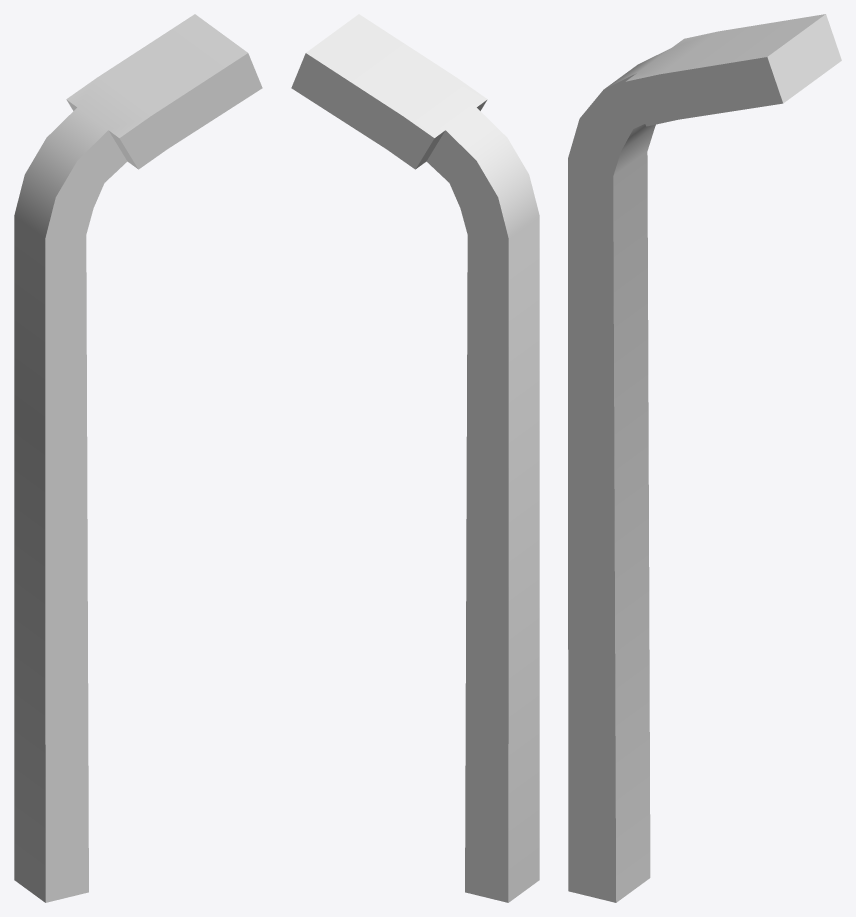
The model's file is lantern01_s03.FBX.
3 views of the same model, side by side, from view 1: azimuth 30°, elevation 25°; view 2: azimuth 150°, elevation 25°; view 3: azimuth 330°, elevation 25° (orthographic). The views are drawn at different scales.
Visible parts, largest first — view 1: lantern01_s03; view 2: lantern01_s03; view 3: lantern01_s03.
Part boxes in pixels (bbox=[...]): lantern01_s03: bbox=[14, 14, 262, 902]; lantern01_s03: bbox=[291, 14, 539, 902]; lantern01_s03: bbox=[568, 14, 841, 902].
Size of the model in its own units: 107 by 48 by 404.
1 material, 1 textured.
